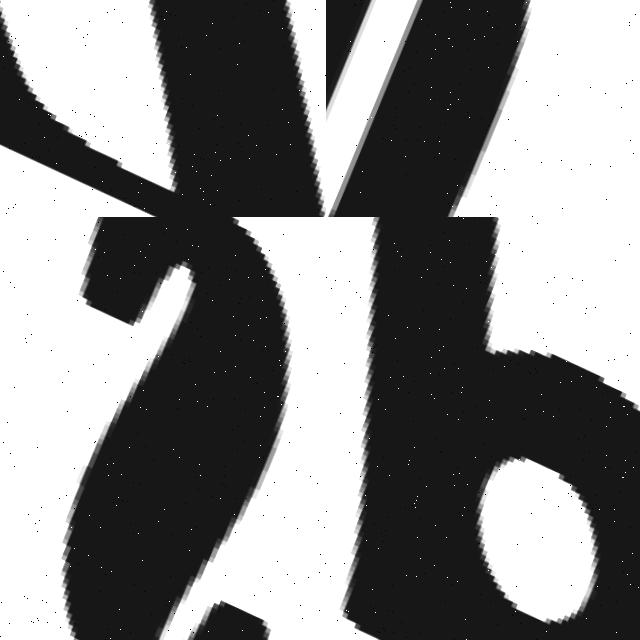B: (326, 0, 530, 217)
P: (336, 217, 640, 640)
S: (0, 217, 326, 640)
Z: (0, 0, 326, 217)
